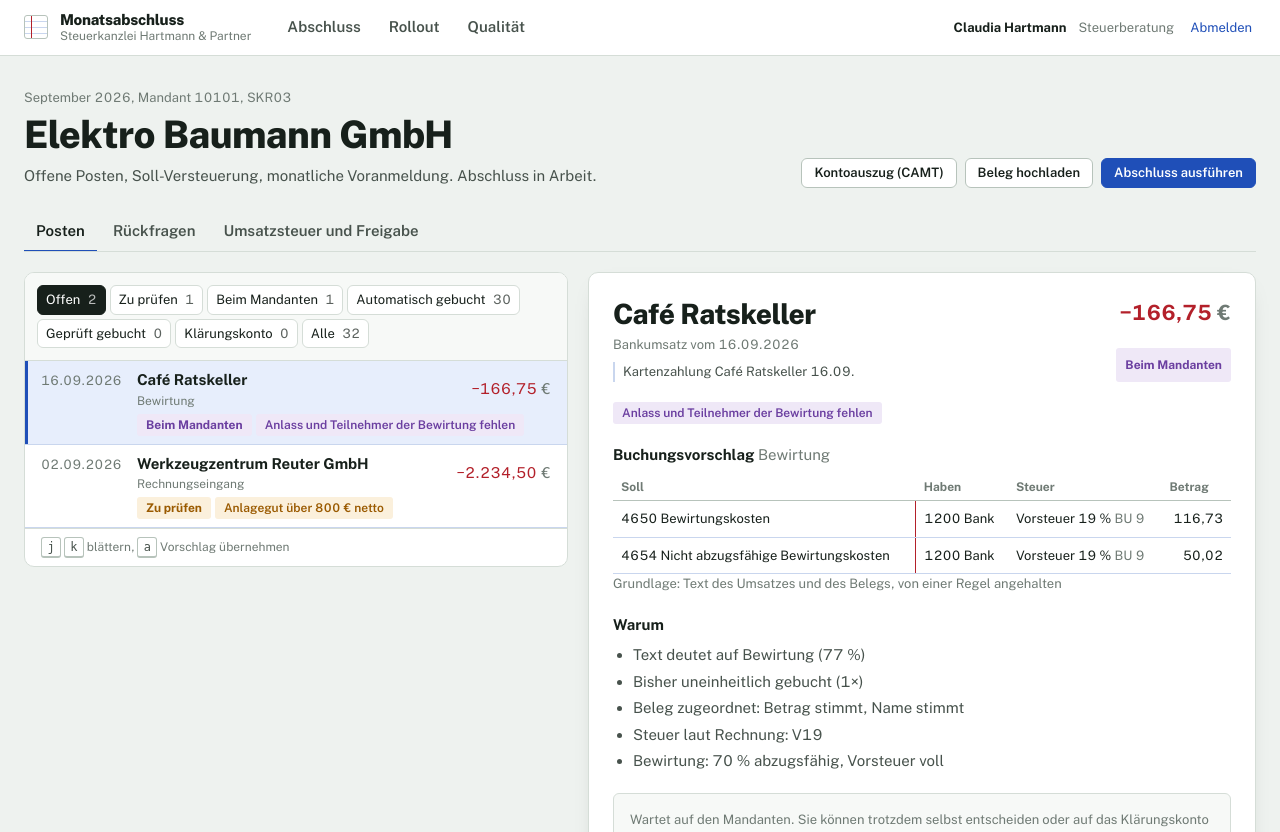
working through a client's month › shows the API's refusal next to the decision
This screenshot has width=1280, height=832.
Click the button "Werkzeugzentrum Reuter" at (81, 464), box [25,445,567,528]
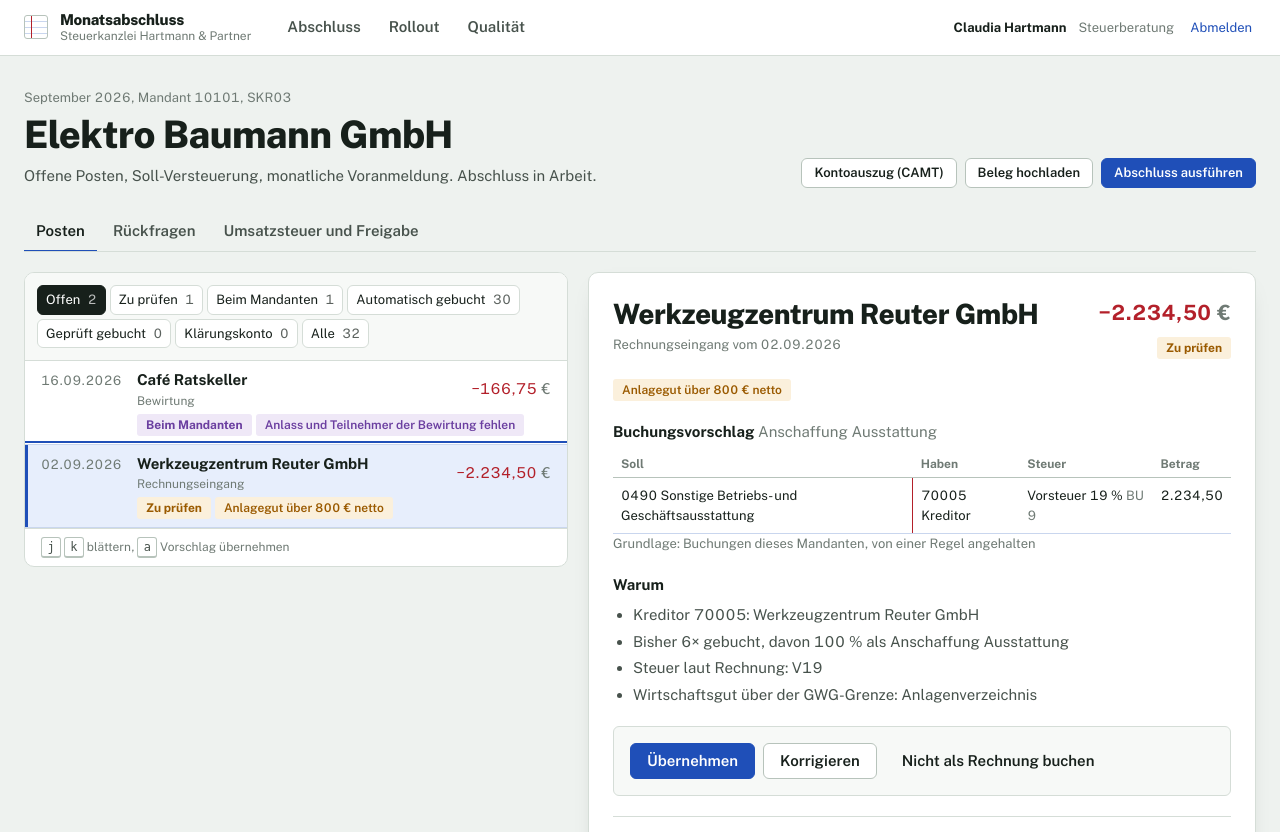
Click the button "Übernehmen" at (693, 761), box [630,743,755,779]
(page scrolled)
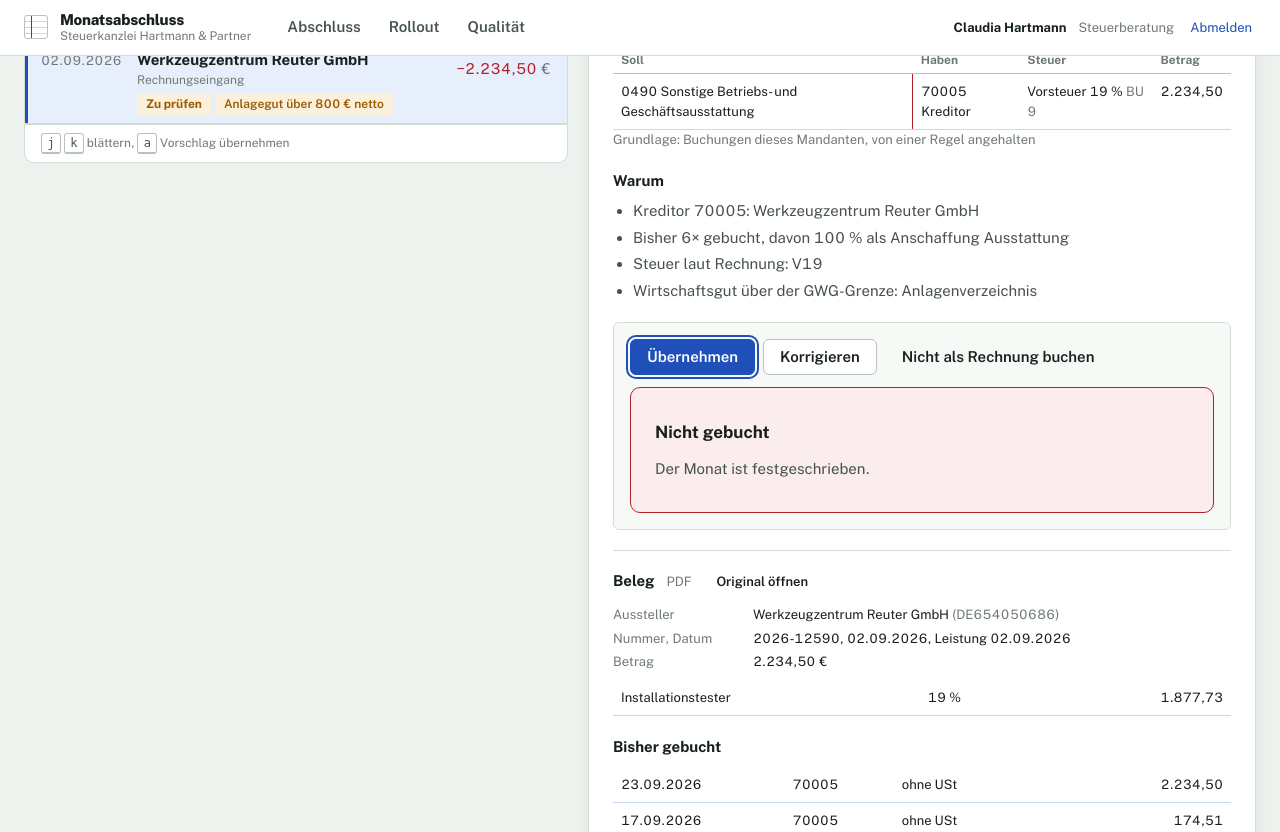
Now the message shows "Der Monat ist festgeschrieben.", box [655,460,870,477]
